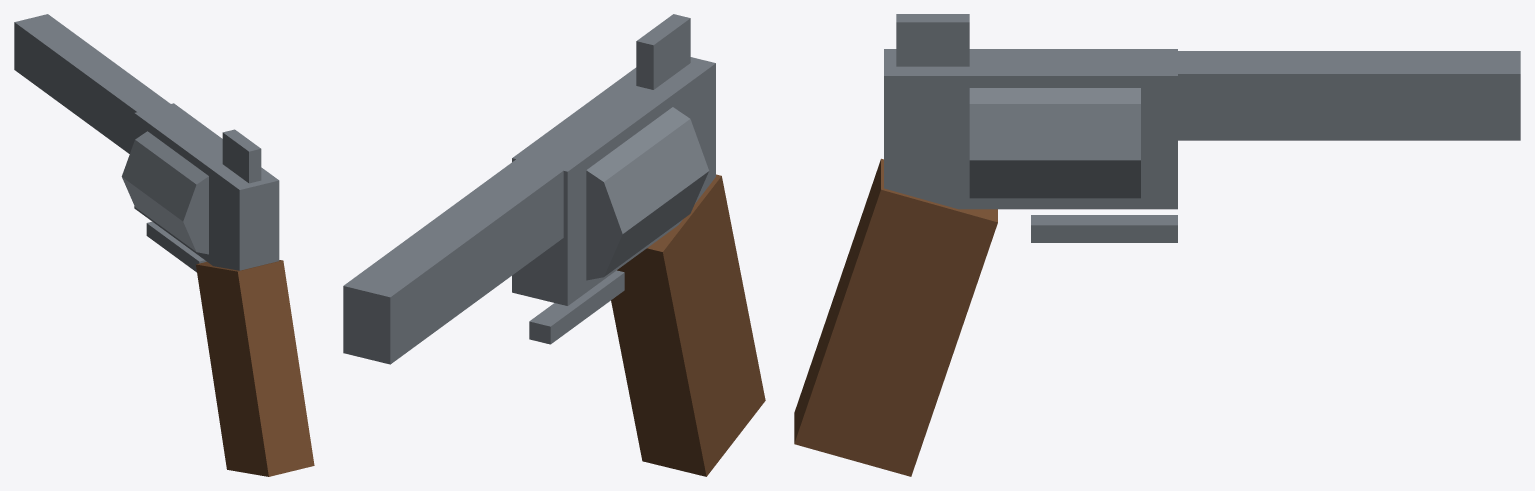
File: revolver.glb
3 renders of one model, left to right at view 1: azimuth 30°, elevation 25°; view 2: azimuth 150°, elevation 25°; view 3: azimuth 270°, elevation 25°, orthographic. The views are drawn at different scales.
Parts seen in each view (by area): view 1: revolver_Body; view 2: revolver_Body; view 3: revolver_Body.
Boxes of the visible parts, x1=… form: revolver_Body: x1=14, y1=14, x2=314, y2=476; revolver_Body: x1=343, y1=14, x2=765, y2=476; revolver_Body: x1=794, y1=14, x2=1520, y2=476.
Bounding box in the file's own units: 0.06 × 0.1997 × 0.2966.
